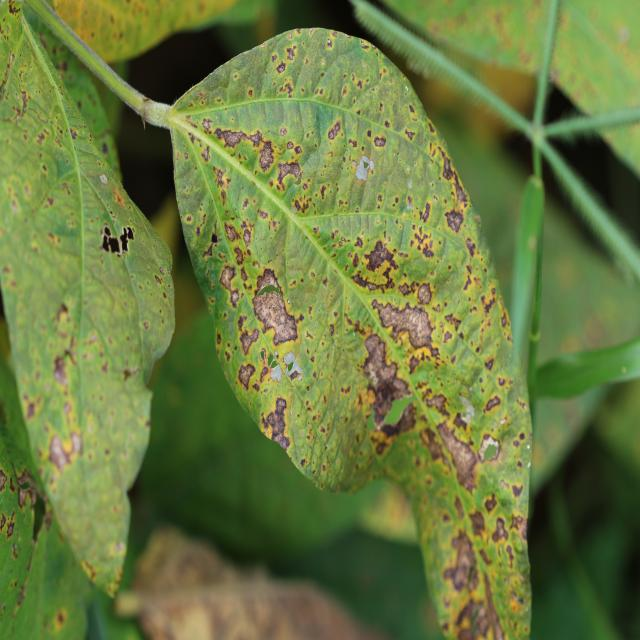Bacterial_Blight: (362, 292, 445, 366), (361, 333, 417, 431), (251, 268, 300, 346), (435, 419, 479, 490), (444, 533, 477, 592), (481, 573, 507, 638), (361, 237, 401, 279), (263, 398, 292, 451), (454, 596, 491, 637), (48, 432, 80, 473), (100, 223, 135, 256), (215, 127, 254, 150), (219, 263, 240, 305), (253, 266, 282, 295), (276, 158, 303, 189), (411, 223, 435, 256), (1, 53, 16, 102), (478, 434, 502, 463), (239, 325, 260, 356), (53, 353, 73, 385), (237, 362, 257, 391), (203, 227, 221, 259), (1, 509, 18, 542), (257, 142, 275, 172), (212, 164, 230, 193), (468, 509, 487, 536), (444, 208, 464, 233), (18, 485, 37, 511), (291, 194, 312, 216), (492, 516, 509, 542), (16, 87, 30, 116), (277, 78, 295, 98), (417, 282, 433, 304), (224, 222, 240, 243), (327, 119, 342, 141), (484, 395, 502, 413), (56, 302, 69, 324), (123, 365, 139, 382), (25, 399, 38, 419), (112, 189, 125, 207), (511, 483, 524, 499), (0, 469, 8, 495), (373, 135, 386, 148), (286, 46, 297, 61), (243, 229, 252, 246), (275, 61, 286, 74), (126, 226, 134, 240), (210, 232, 219, 244), (280, 126, 288, 136)
Soybean: (153, 28, 533, 640)
